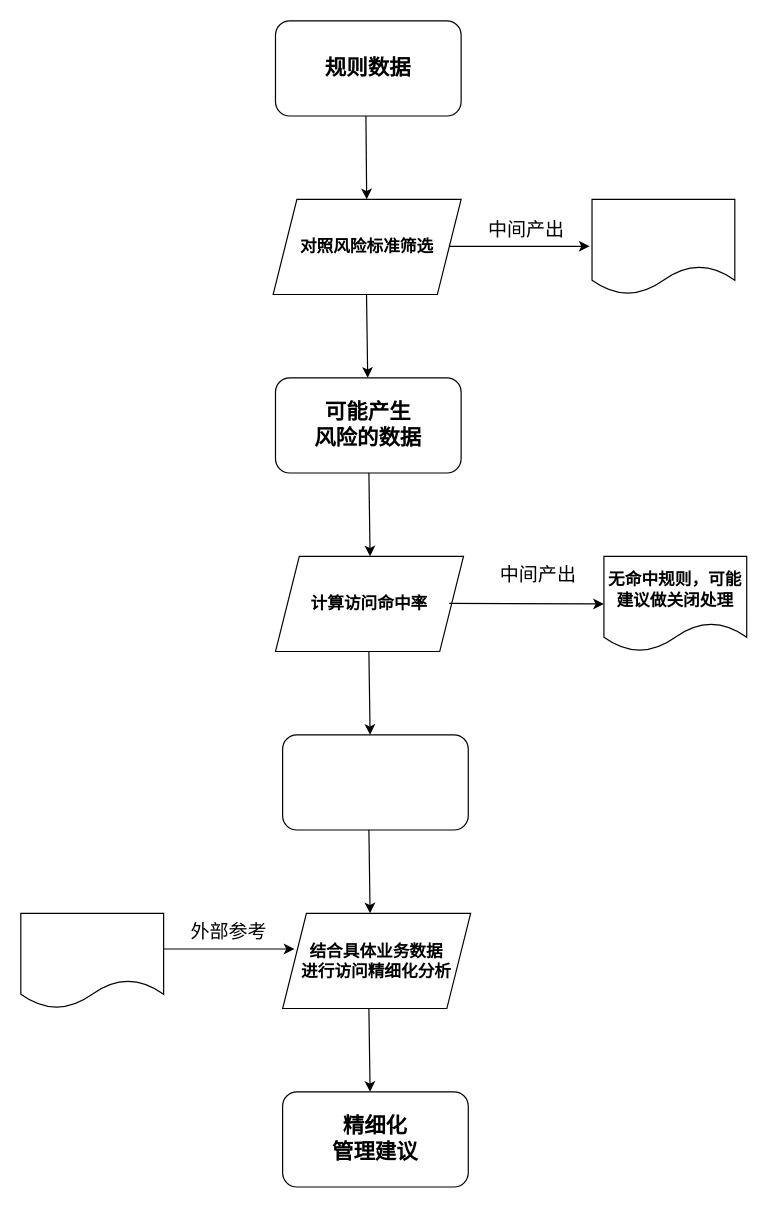
The diagram is 768 pixels wide and 1208 high, and some of its shapes have lost their labels. The centre of each missing label's shape, as x and y in pixels:
"具体业务数据" belongs at (x=92, y=960).
"有命中的规则" belongs at (x=374, y=782).
"规则—风险告警 对照信息记录表" belongs at (x=663, y=246).
